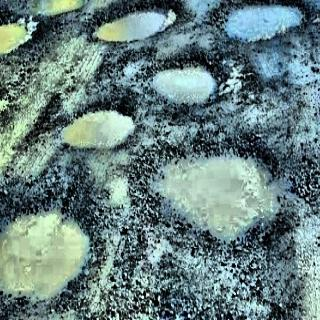pothole: (0, 3, 320, 318)
